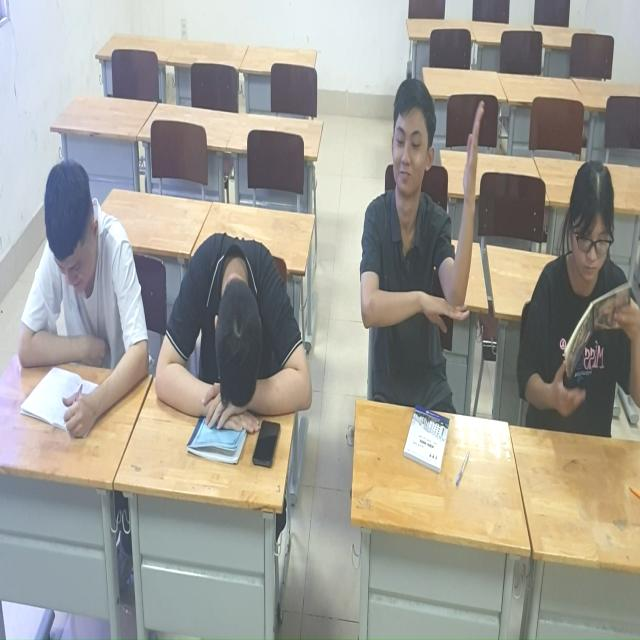raise_hand: (357, 77, 488, 399)
read: (8, 126, 158, 431), (514, 161, 640, 459)
sleep: (164, 212, 314, 439)
